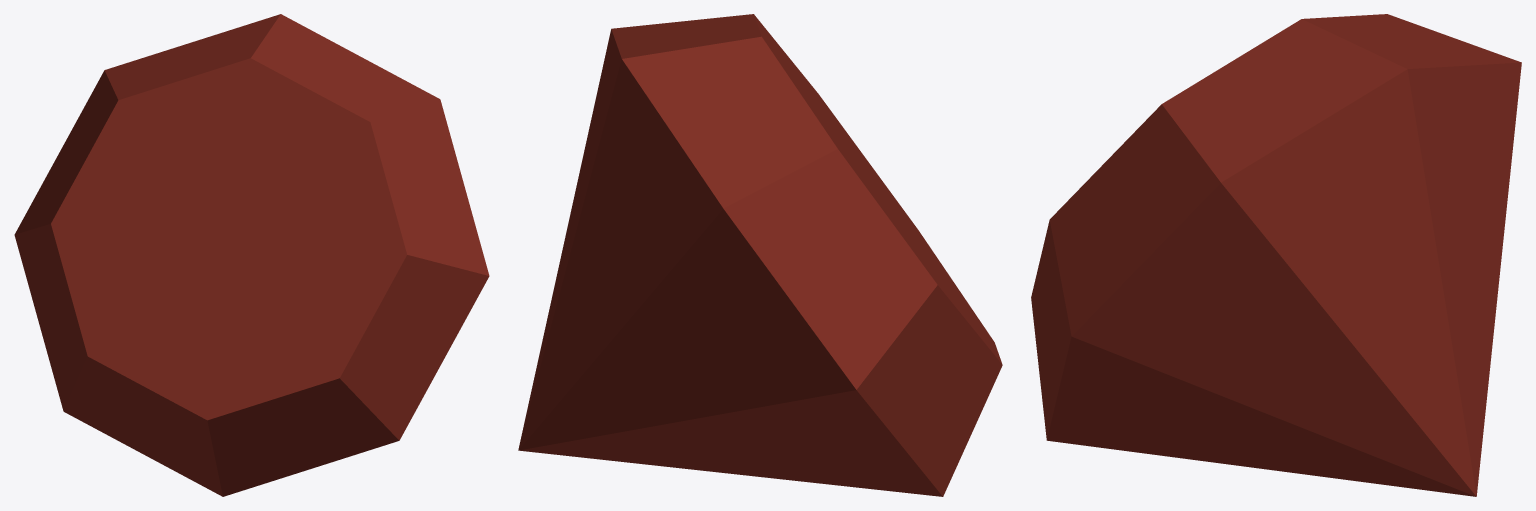
The model's file is SM_Item_Gem_02.glb.
The picture shows the model from 3 angles, left to right: view 1: azimuth 30°, elevation 25°; view 2: azimuth 150°, elevation 25°; view 3: azimuth 270°, elevation 25°; orthographic projection. The views are drawn at different scales.
Parts seen in each view (by area): view 1: SM_Item_Gem_02; view 2: SM_Item_Gem_02; view 3: SM_Item_Gem_02.
Part boxes in pixels (bbox=[...]): SM_Item_Gem_02: bbox=[14, 14, 489, 496]; SM_Item_Gem_02: bbox=[518, 14, 1002, 496]; SM_Item_Gem_02: bbox=[1031, 14, 1521, 496].
Bounding box in the file's own units: 0.001 × 0.00107 × 0.00102.
